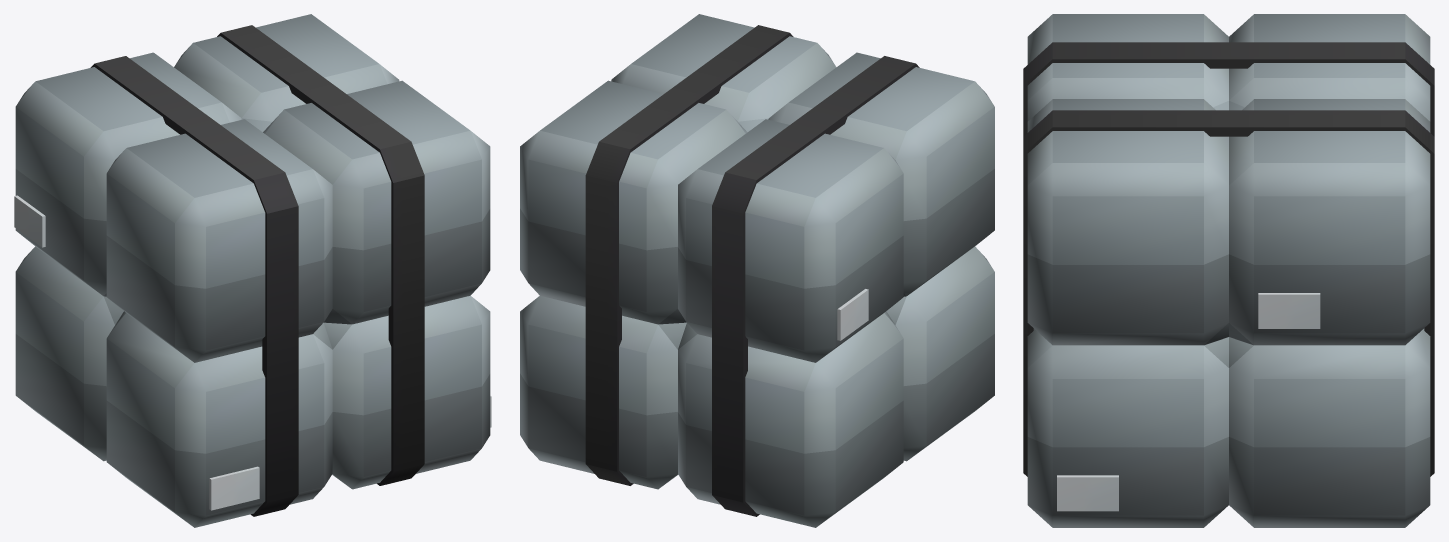
Rendered from kay-carga-cilindros.gltf.
3 renders of one model, left to right at view 1: azimuth 30°, elevation 25°; view 2: azimuth 150°, elevation 25°; view 3: azimuth 270°, elevation 25°, orthographic. The views are drawn at different scales.
Visible parts, largest first — view 1: cargo_B_stacked; view 2: cargo_B_stacked; view 3: cargo_B_stacked.
Boxes of the visible parts, x1,y1,x2,y2 form: cargo_B_stacked: [14, 14, 491, 527]; cargo_B_stacked: [520, 14, 994, 527]; cargo_B_stacked: [1023, 14, 1434, 527].
Size of the model in its own units: 2.65 by 2.65 by 2.65.
1 material, 1 textured.
